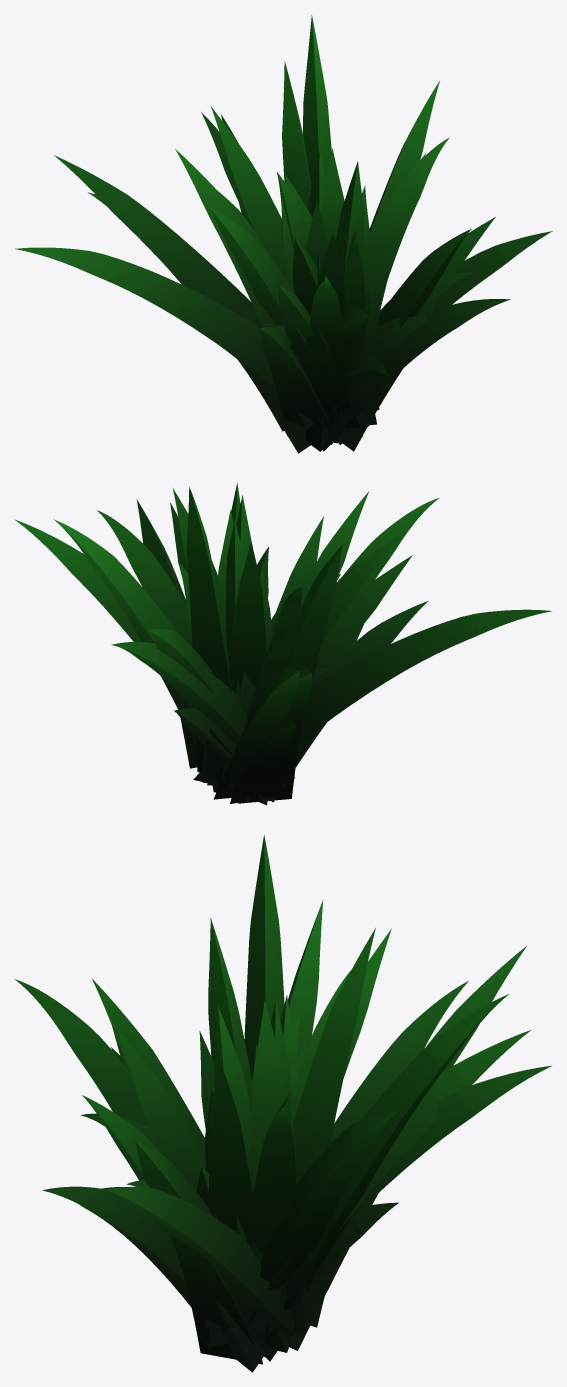
The model's file is Grass_01.fbx.
The picture shows the model from 3 angles, top to bottom: view 1: azimuth 30°, elevation 25°; view 2: azimuth 150°, elevation 25°; view 3: azimuth 270°, elevation 25°; orthographic projection. The views are drawn at different scales.
Visible parts, largest first — view 1: Grass_01; view 2: Grass_01; view 3: Grass_01.
Boxes of the visible parts, x1,y1,x2,y2 form: Grass_01: [15, 15, 552, 453]; Grass_01: [14, 483, 551, 805]; Grass_01: [14, 835, 551, 1372].
Size of the model in its own units: 1451 by 985 by 1127.
